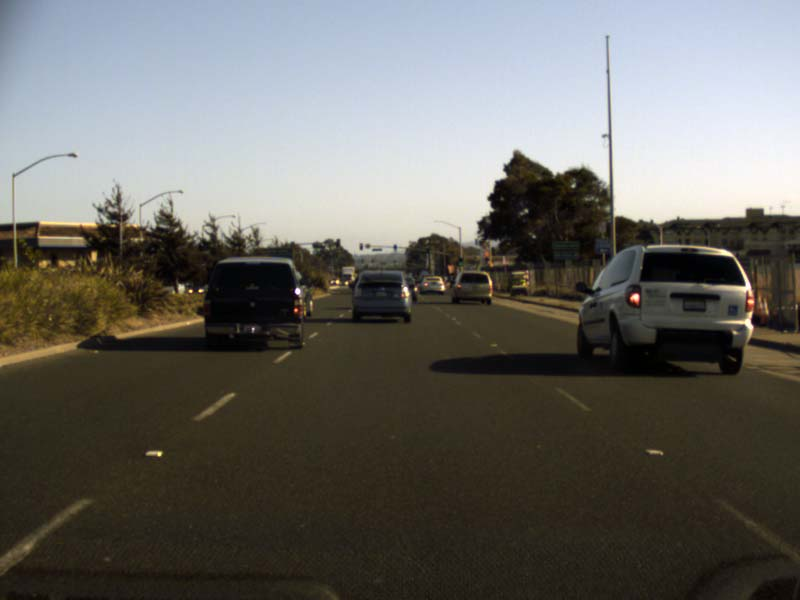Green: (458, 259, 462, 265), (393, 245, 396, 251)
Red: (359, 243, 362, 249)
